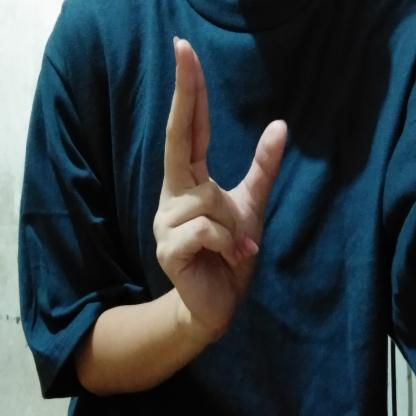who: (147, 31, 291, 344)
